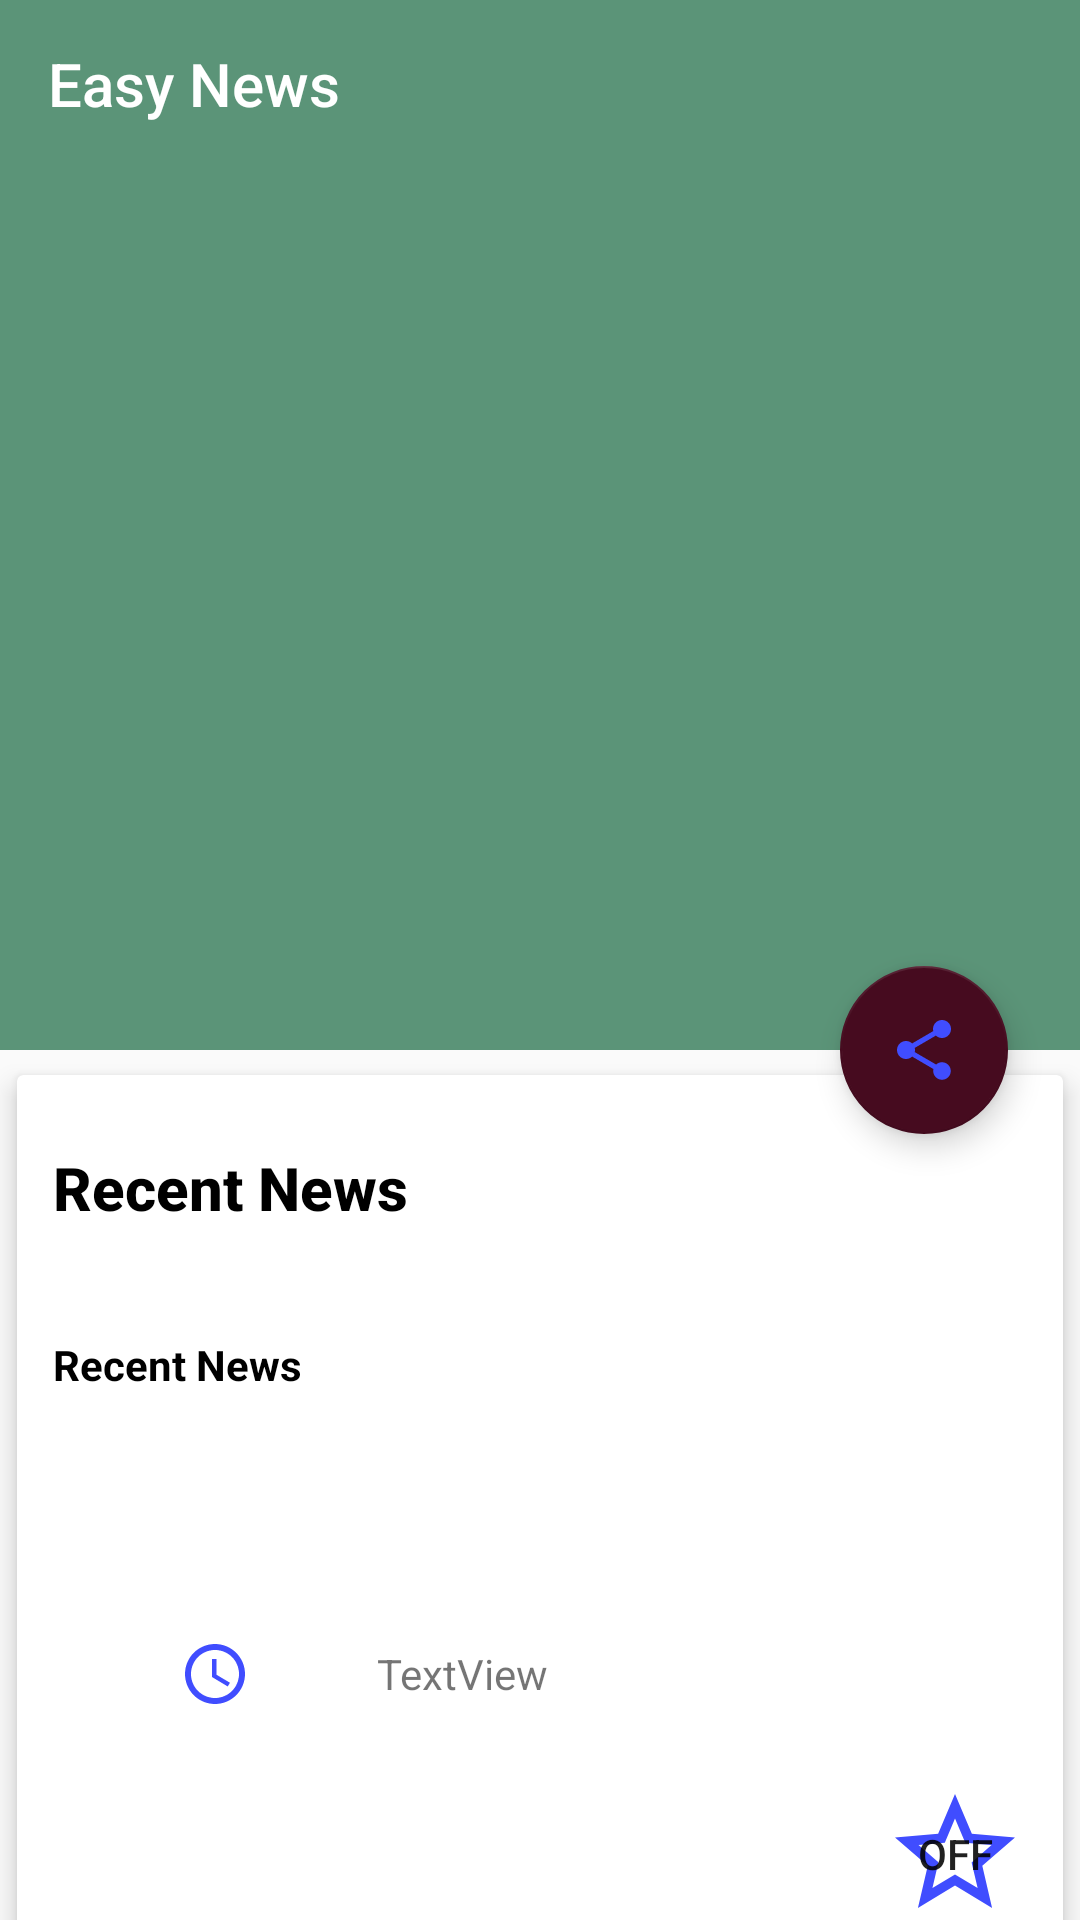

Point at icon controls on the screen. Image size 1080 x 1920, points as [x,y].
clock: [215,1674]
share: [924,1050]
